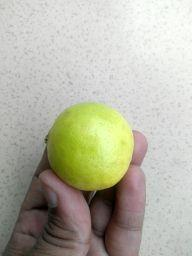lemon: (33, 95, 153, 195)
